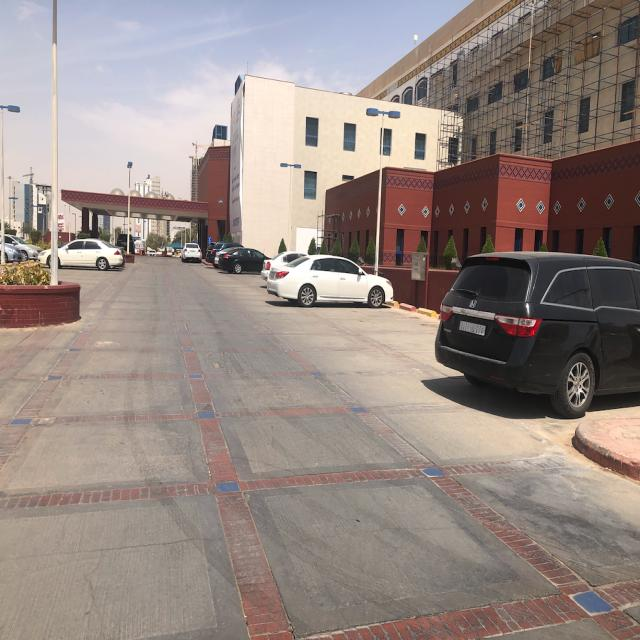license_plate: (458, 320, 489, 336)
